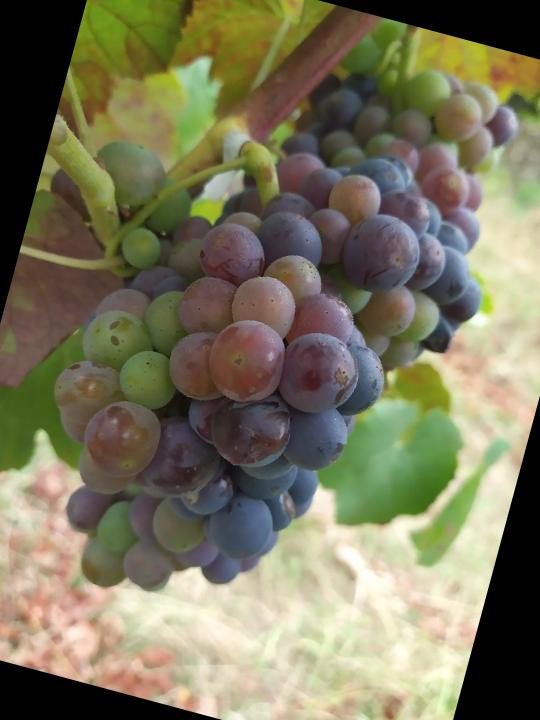grape: (3, 89, 514, 668)
